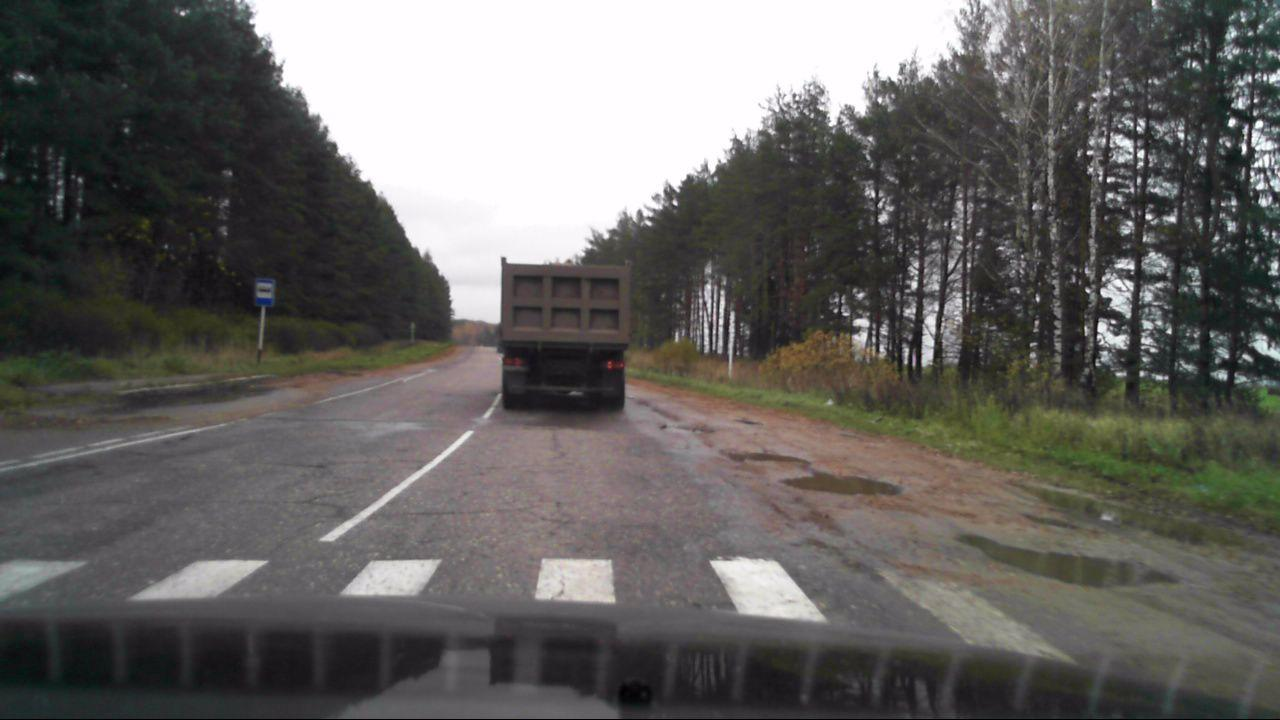5_16: (252, 279, 275, 307)
